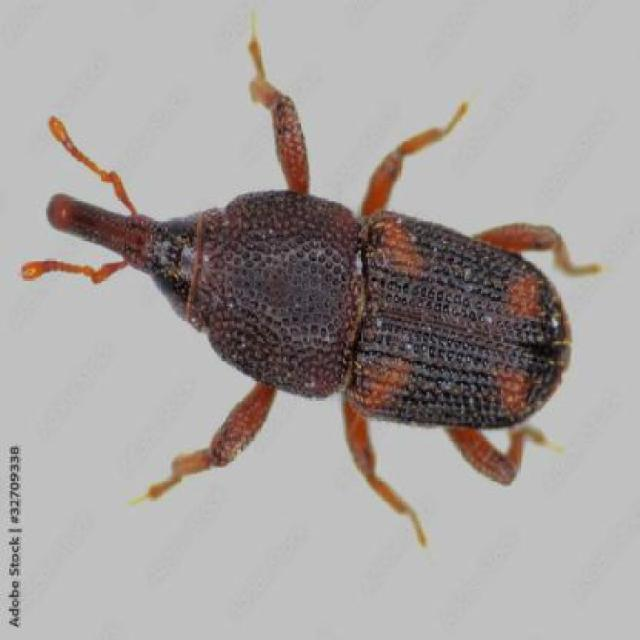rice-bug: (46, 163, 597, 492)
